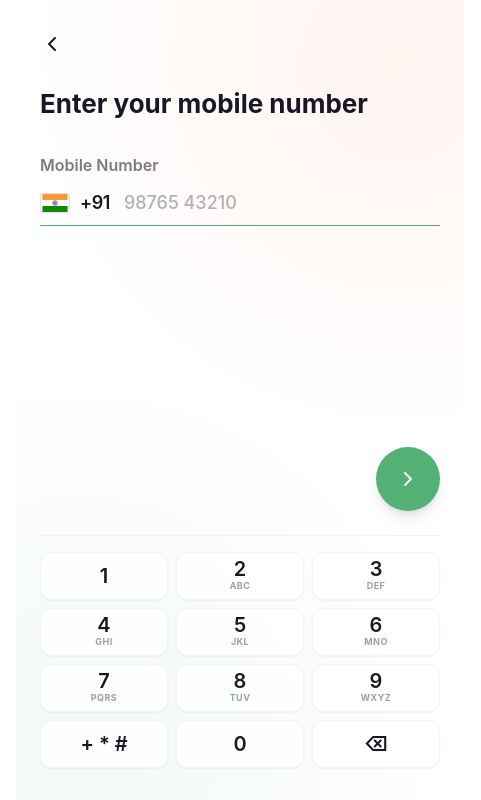
Scenario: Auth and Onboarding Flow › Phone Number Entry › shows error for short or invalid phone number
The width and height of the screenshot is (481, 800).
Type "123" into the field labelled "Mobile Number".
click(282, 202); type("123")  # box [124,188,440,216]
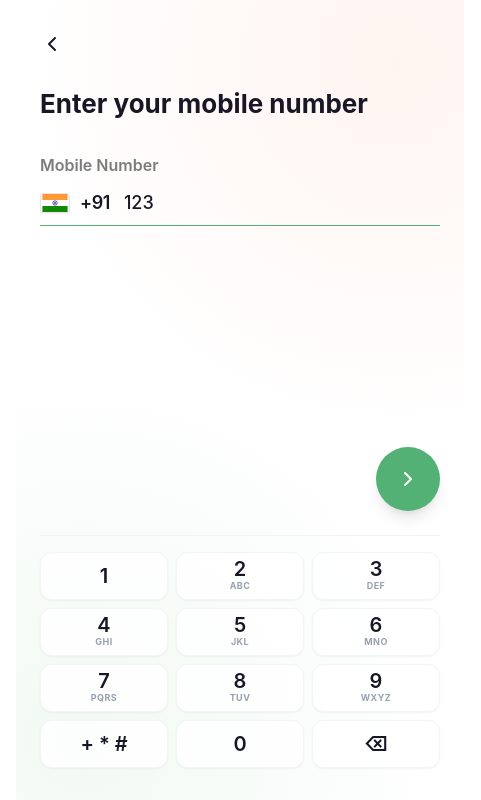
Click the button named "continue to verification code".
click(408, 479)  # box [376,447,440,511]
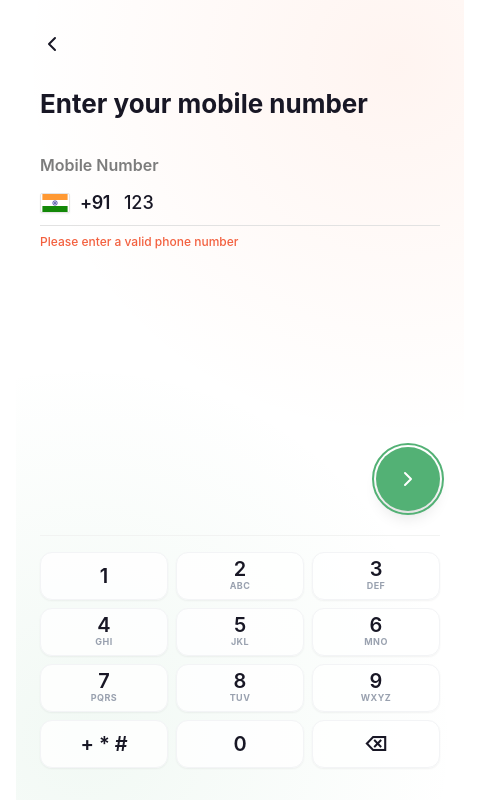
Expected: the text "Please enter a valid phone number" is shown, [40,234,238,248]
